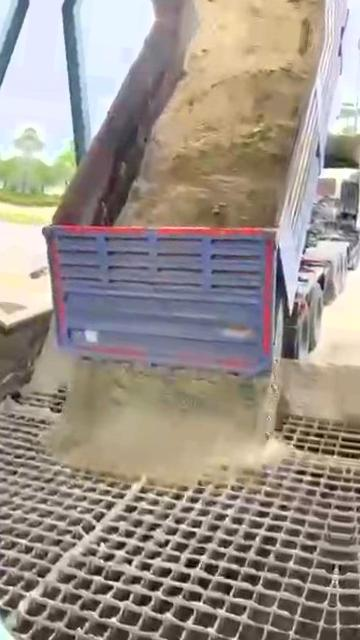sand: (27, 324, 360, 482), (119, 24, 322, 226), (19, 479, 143, 613), (0, 397, 57, 422)
